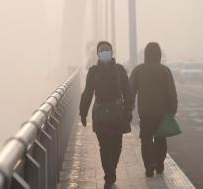person: (76, 40, 135, 189), (129, 38, 184, 179)
